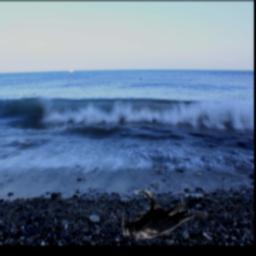Crow: (122, 191, 195, 240)
